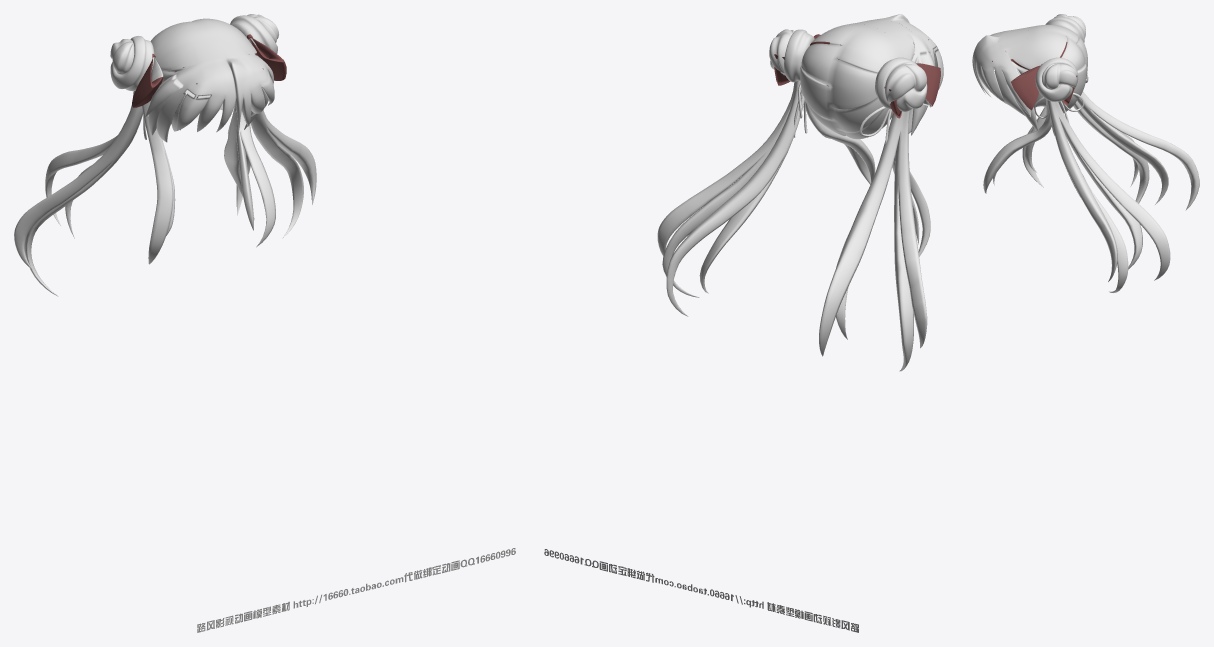
3 views of the same model, side by side, from view 1: azimuth 30°, elevation 25°; view 2: azimuth 150°, elevation 25°; view 3: azimuth 270°, elevation 25° (orthographic). The views are drawn at different scales.
Parts seen in each view (by area): view 1: polySurface20; view 2: polySurface20; view 3: polySurface20.
Part boxes in pixels (x1,y1,x2,y2): polySurface20: [14, 14, 316, 296]; polySurface20: [657, 14, 943, 371]; polySurface20: [972, 14, 1199, 292].
Bounding box in the file's own units: 156 × 204 × 87.3.
